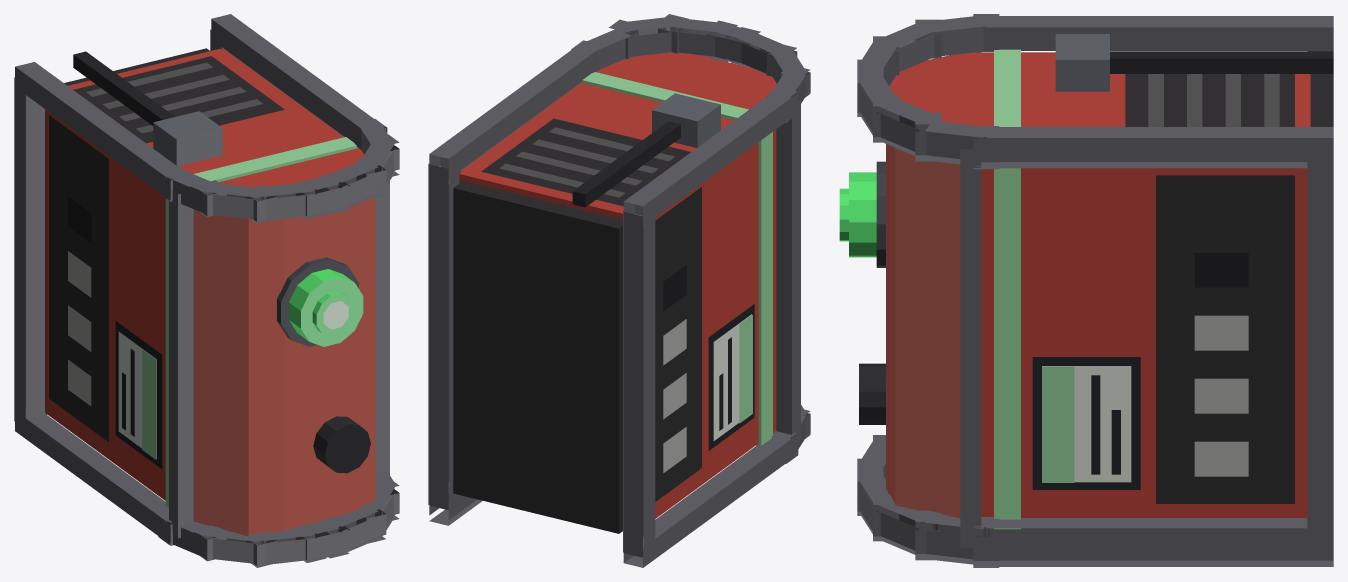
The model's file is backup_ground_lectromax_on_W.obj.
The picture shows the model from 3 angles, left to right: view 1: azimuth 30°, elevation 25°; view 2: azimuth 150°, elevation 25°; view 3: azimuth 270°, elevation 25°; orthographic projection. The views are drawn at different scales.
Visible parts, largest first — view 1: backup_ground_lectromax_on_W; view 2: backup_ground_lectromax_on_W; view 3: backup_ground_lectromax_on_W.
Part boxes in pixels (left/top/right/bottom): backup_ground_lectromax_on_W: left=14, top=14, right=399, bottom=567; backup_ground_lectromax_on_W: left=428, top=14, right=810, bottom=567; backup_ground_lectromax_on_W: left=839, top=14, right=1333, bottom=567.
Size of the model in its own units: 0.377 by 0.625 by 0.6405.
Materials: 1 (1 with a texture image).
